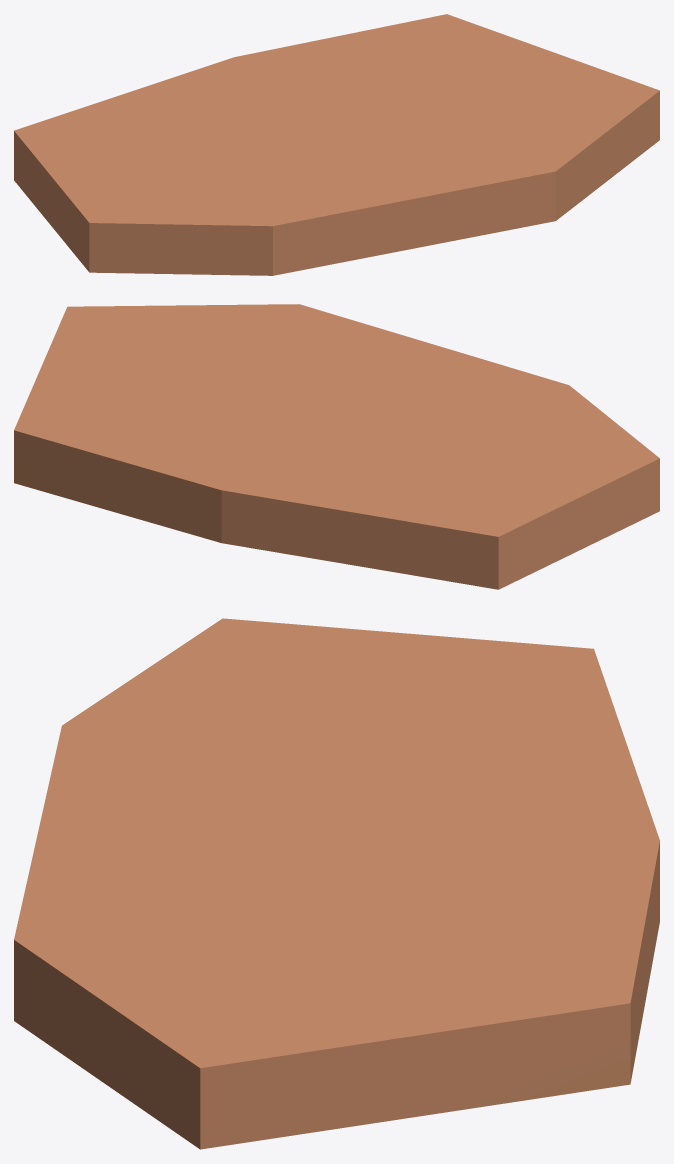
File: gachsan_002.fbx
3 views of the same model, one above another, from view 1: azimuth 30°, elevation 25°; view 2: azimuth 150°, elevation 25°; view 3: azimuth 270°, elevation 25° (orthographic). The views are drawn at different scales.
Parts seen in each view (by area): view 1: gachsan_002; view 2: gachsan_002; view 3: gachsan_002.
Boxes of the visible parts, x1,y1,x2,y2 form: gachsan_002: (14,14,659,275); gachsan_002: (14,304,659,589); gachsan_002: (14,618,659,1149).
Size of the model in its own units: 112 by 9.41 by 67.82.
